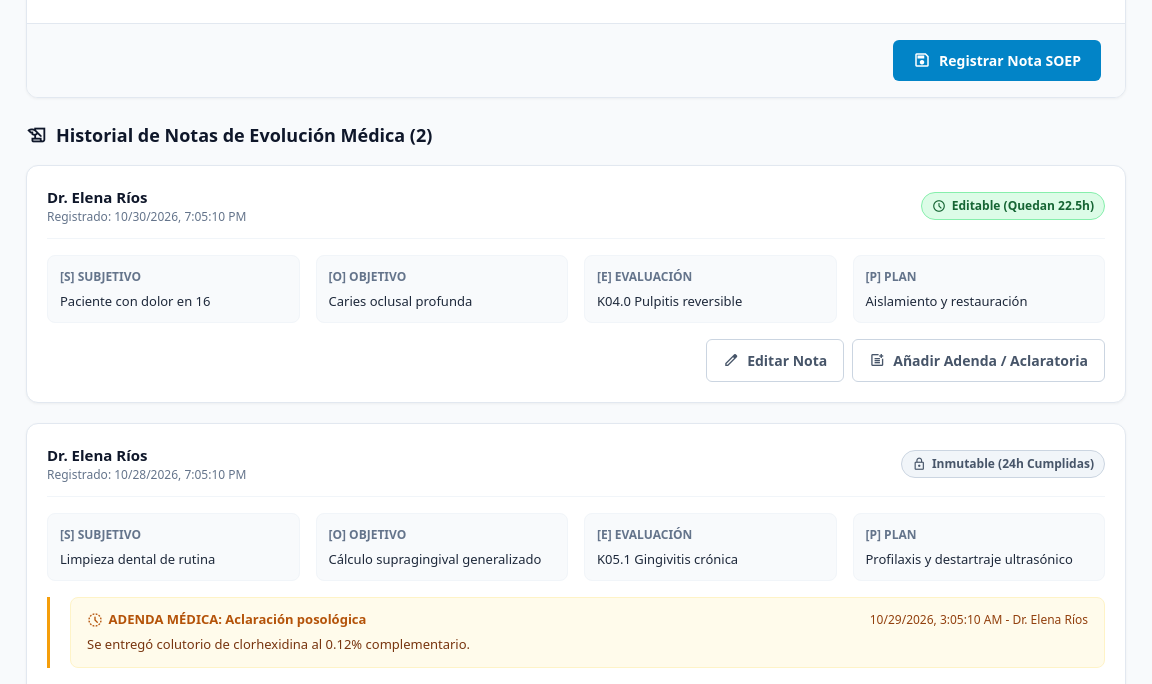
Test: SoepEditor Component › debe abrir el modal de adenda aclaratoria al pulsar Añadir Adenda
(page scrolled)
Click the button "Añadir Adenda / Aclaratoria" below "Aislamiento y restauración" at {"x": 979, "y": 360}, box [852, 339, 1105, 382]
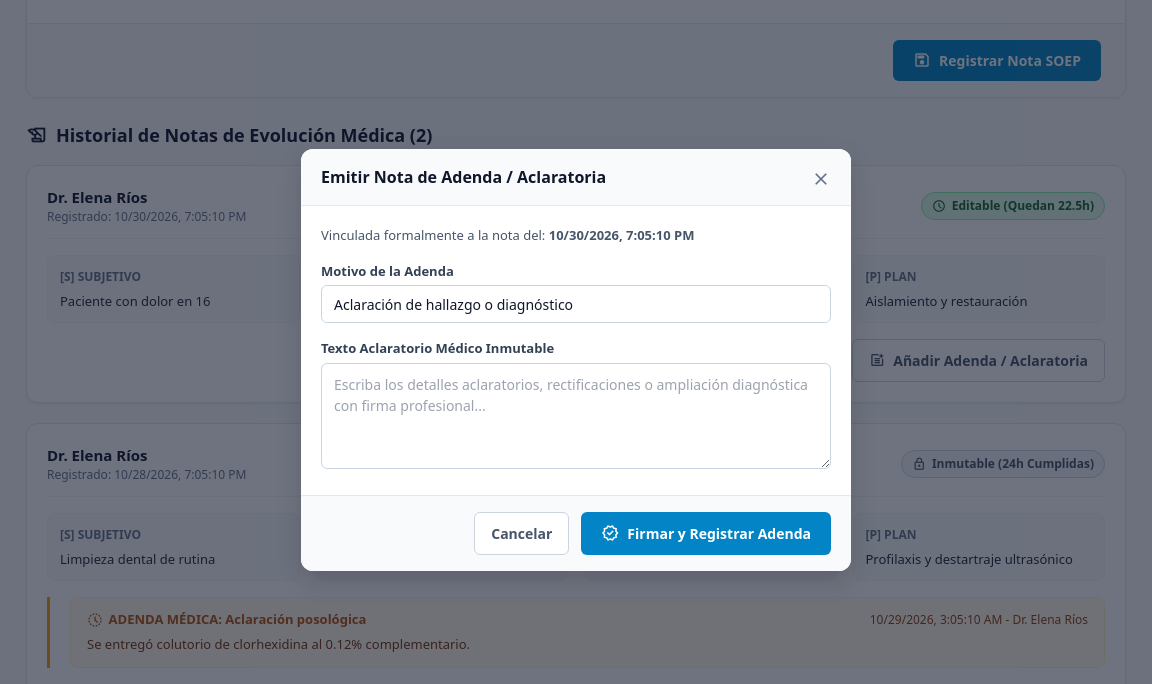
Check: the text "Emitir Nota de Adenda / Aclaratoria" is shown, box [321, 165, 606, 189]
Check: the button "Firmar y Registrar Adenda" is shown, box [581, 512, 831, 555]
